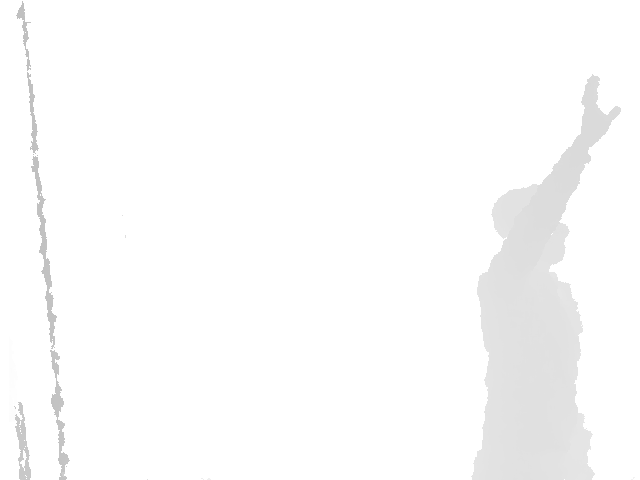hand: (581, 74, 621, 139)
head: (491, 183, 570, 265)
person: (473, 74, 623, 480)
